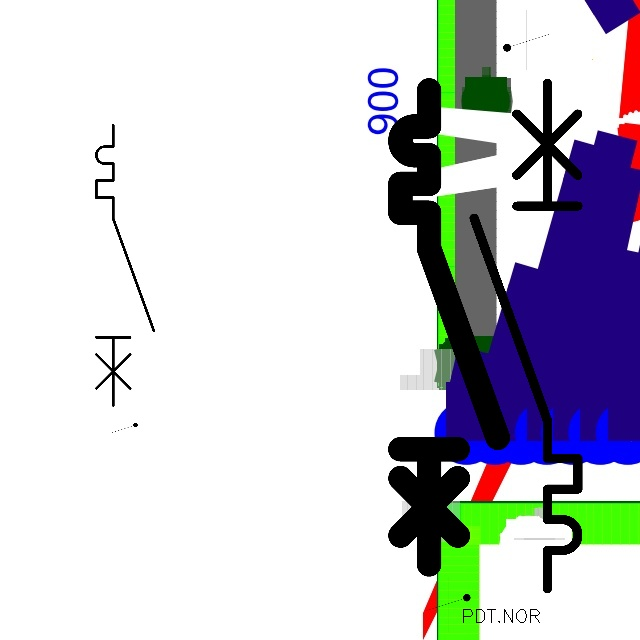interruptor_termomagnetico: (461, 70, 591, 602), (388, 78, 510, 576), (89, 118, 161, 413)
